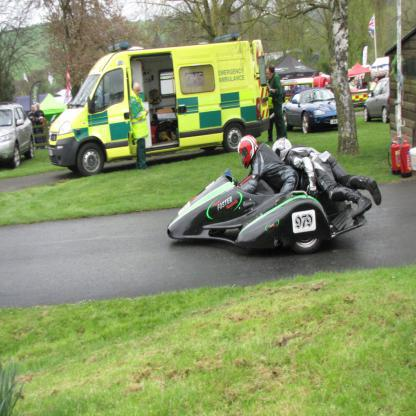bus: (48, 34, 276, 177)
